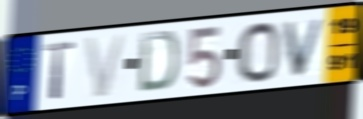5: (186, 23, 224, 91)
D: (136, 29, 181, 95)
O: (236, 20, 281, 84)
T: (42, 39, 76, 101)
V: (82, 31, 129, 100), (282, 15, 328, 79)
